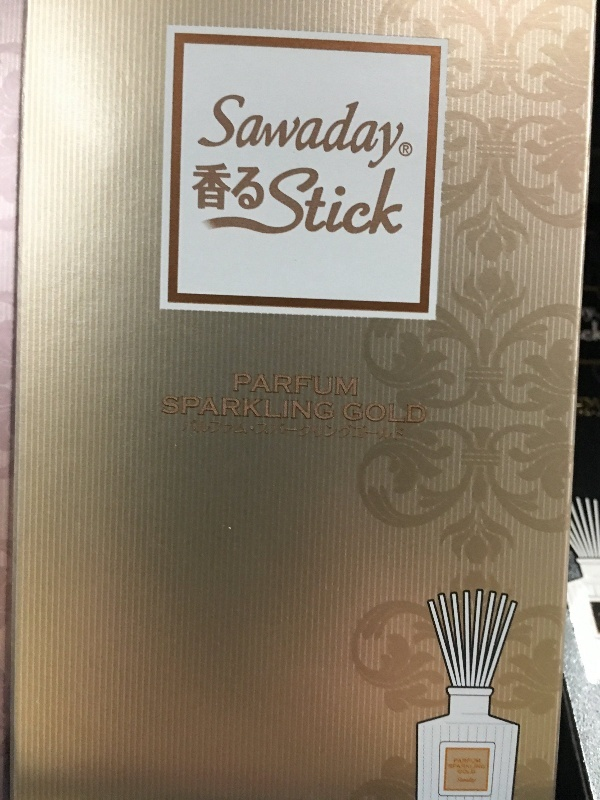text: (289, 159, 304, 252), (305, 159, 320, 252), (321, 159, 336, 252), (337, 159, 352, 252), (353, 159, 368, 252), (369, 159, 384, 252), (385, 159, 400, 252), (209, 92, 224, 174), (225, 92, 240, 174), (241, 92, 256, 174), (257, 92, 272, 174), (273, 92, 288, 174), (289, 92, 304, 174), (305, 92, 320, 174), (321, 92, 336, 174), (337, 92, 352, 174), (353, 92, 368, 174), (369, 92, 384, 174), (385, 92, 400, 174), (401, 92, 416, 174), (276, 159, 288, 252), (401, 159, 411, 252), (193, 162, 208, 214), (209, 162, 224, 214), (225, 162, 240, 214), (241, 162, 256, 214), (257, 162, 267, 214), (177, 393, 192, 423), (193, 393, 208, 423), (209, 393, 224, 423), (225, 393, 240, 423), (241, 393, 256, 423), (257, 393, 272, 423), (273, 393, 288, 423), (289, 393, 304, 423), (305, 393, 320, 423), (162, 393, 176, 423), (241, 372, 256, 399), (257, 372, 272, 399), (273, 372, 288, 399), (289, 372, 304, 399), (305, 372, 320, 399), (321, 372, 336, 399), (337, 372, 352, 399), (353, 398, 368, 425), (369, 398, 384, 425), (385, 398, 400, 425), (401, 398, 416, 425), (321, 393, 334, 423), (193, 418, 208, 442), (209, 418, 224, 442), (225, 418, 240, 442), (241, 418, 256, 442), (257, 418, 272, 442), (273, 418, 288, 442), (289, 418, 304, 442), (305, 418, 320, 442), (321, 418, 336, 442), (337, 418, 352, 442), (353, 418, 368, 442), (369, 418, 384, 442), (385, 418, 400, 442), (417, 92, 421, 174), (417, 398, 427, 425), (205, 92, 208, 174), (344, 398, 352, 425), (185, 418, 192, 442), (234, 372, 240, 399), (353, 372, 358, 399), (449, 763, 464, 771), (465, 763, 480, 771), (403, 145, 416, 154), (465, 776, 477, 785), (401, 418, 405, 442), (465, 758, 481, 764), (465, 769, 477, 775), (453, 758, 464, 764), (457, 776, 464, 785), (457, 769, 464, 775), (481, 763, 486, 771)
